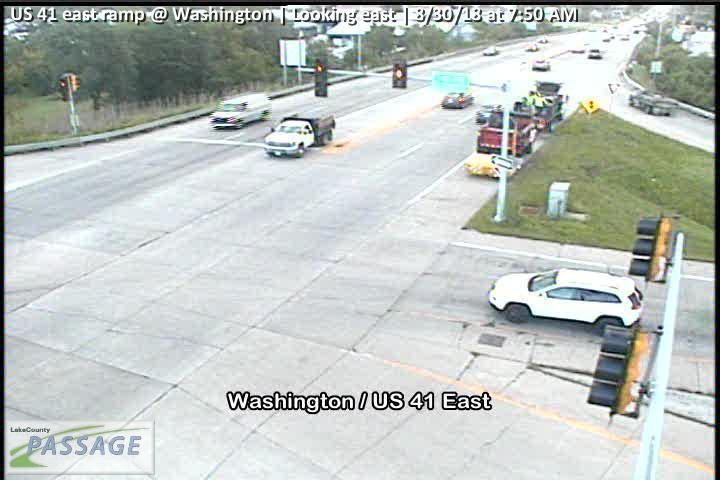SUV: (487, 268, 646, 330), (531, 58, 552, 72), (588, 48, 603, 60)
Sedan: (440, 89, 475, 110), (482, 43, 499, 56), (525, 43, 539, 51), (538, 36, 547, 43)
Truck: (263, 105, 338, 161), (478, 105, 536, 158), (209, 90, 275, 132), (517, 93, 570, 135), (629, 89, 677, 118)
